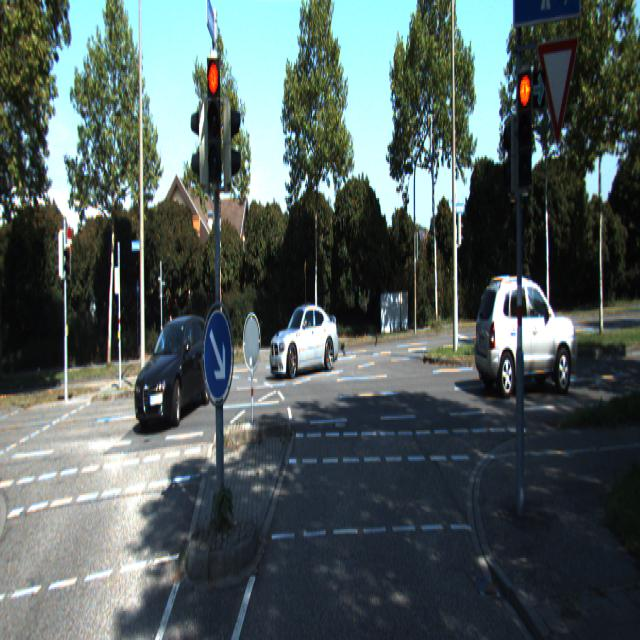Car: (474, 272, 582, 394), (133, 312, 215, 428), (268, 300, 340, 380)
